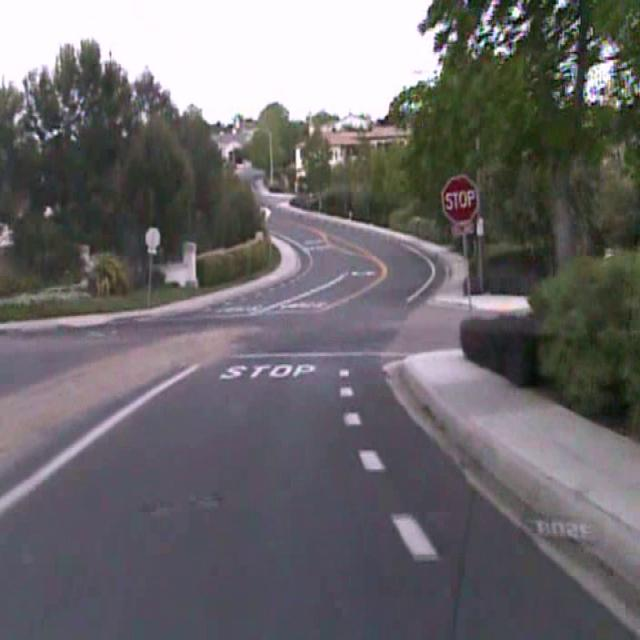stop: (441, 173, 479, 227)
